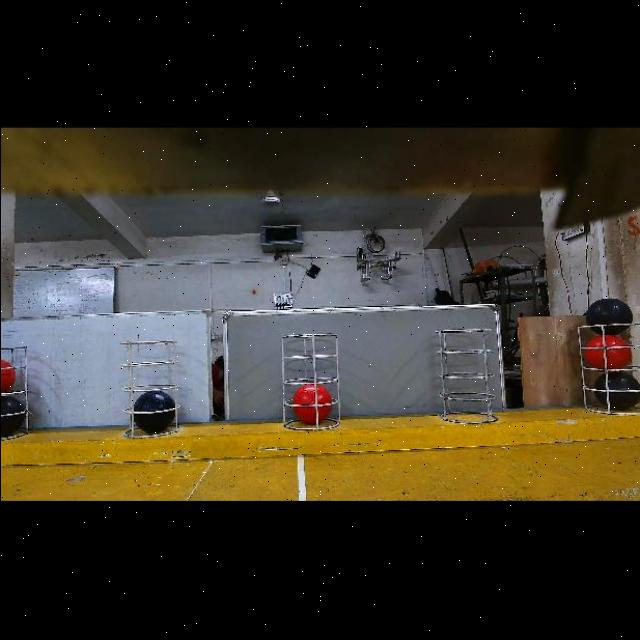P: (133, 390, 175, 433), (594, 371, 640, 409), (586, 298, 633, 335), (0, 395, 25, 436)
R: (585, 334, 632, 369), (292, 384, 331, 424), (0, 359, 15, 392)
S: (125, 340, 182, 444), (437, 326, 497, 424), (580, 312, 640, 406), (284, 332, 346, 420), (0, 340, 28, 440)
